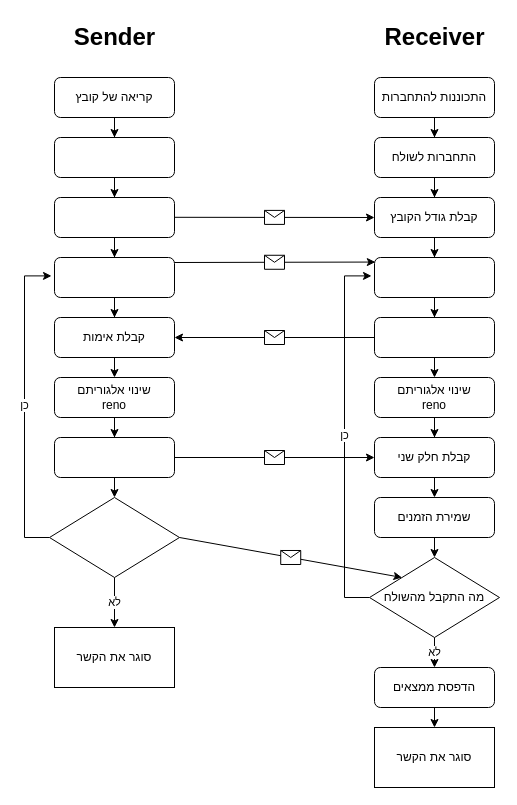
The diagram is 517 pixels wide and 805 high, and some of its shapes have lost their labels. Here are the shapes that lost their labels. From the top down, the box of each, then its label:
(54, 136, 174, 178): התחברות למקבל
(54, 196, 174, 238): שליחת גודל הקובץ
(54, 256, 174, 298): שליחת חלק ראשון
(374, 256, 494, 298): קבלת חלק ראשון
(374, 316, 494, 358): שליחת אימות
(54, 436, 174, 478): שליחת חלק שני
(48, 496, 180, 578): האם לשלוח שוב
